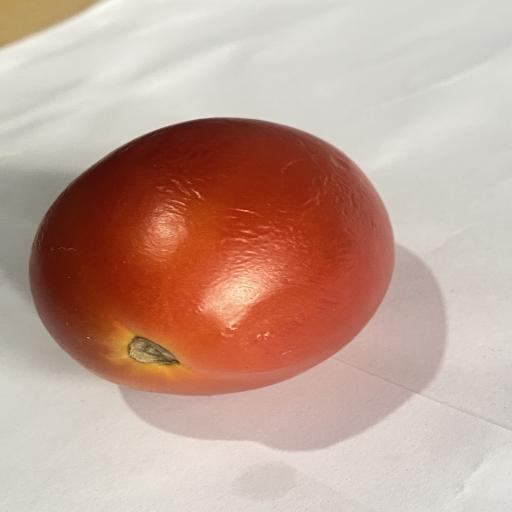spoiled: (30, 118, 394, 394)
